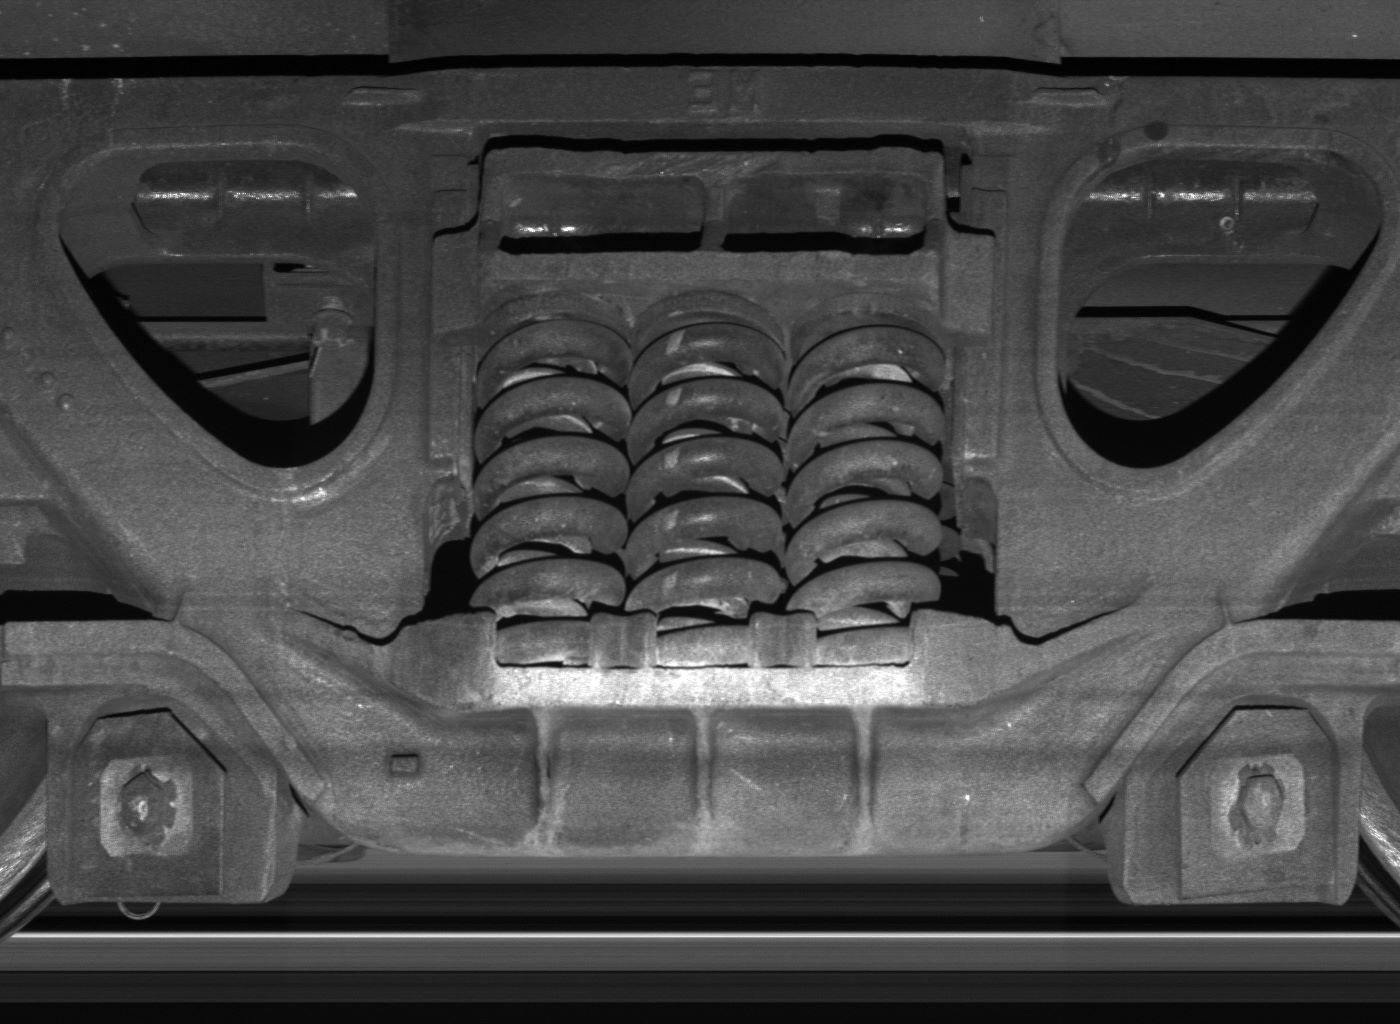normal: (1126, 685, 1362, 904), (48, 685, 275, 906)
